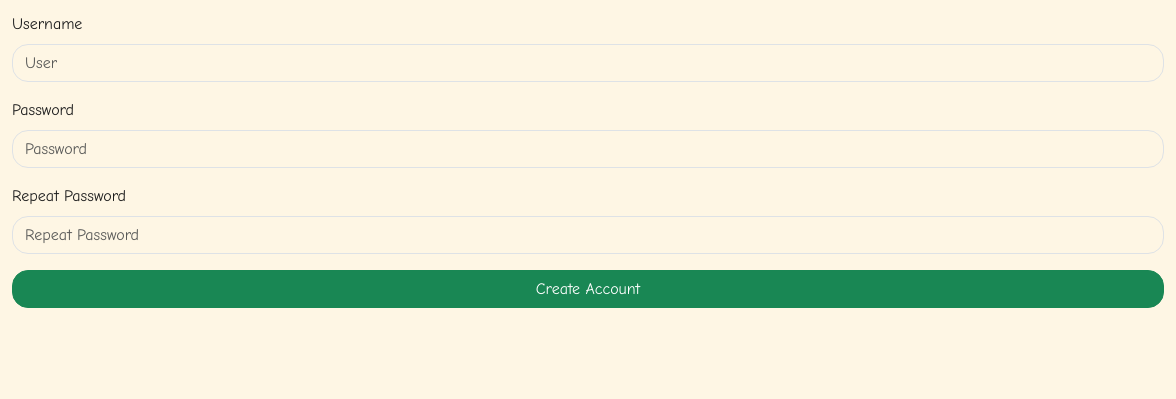
Test case: CreateAccountForm › shows an error message if username already exists
Type "existinguser" into the field labelled "Username" at (588,63), box x1=12 y1=44 x2=1164 y2=82
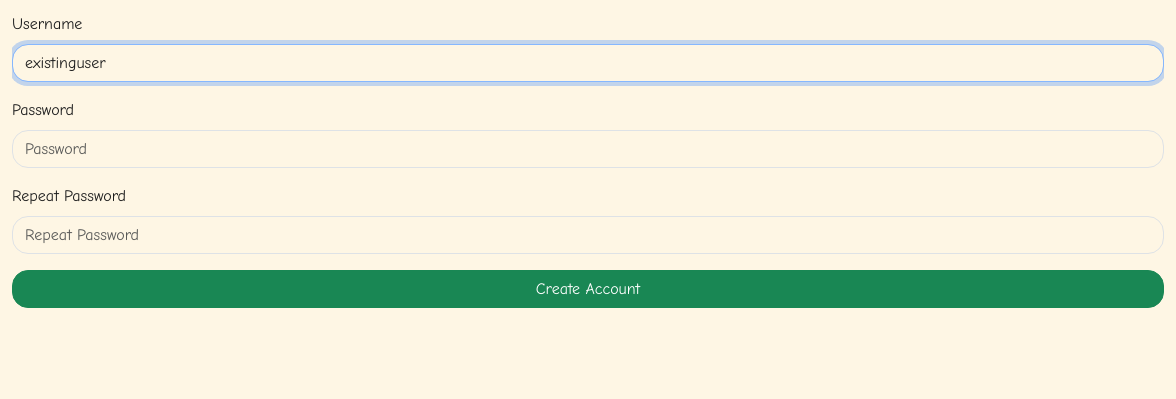
Type "password" into the password field labelled "Password" at (588,149), box x1=12 y1=130 x2=1164 y2=168
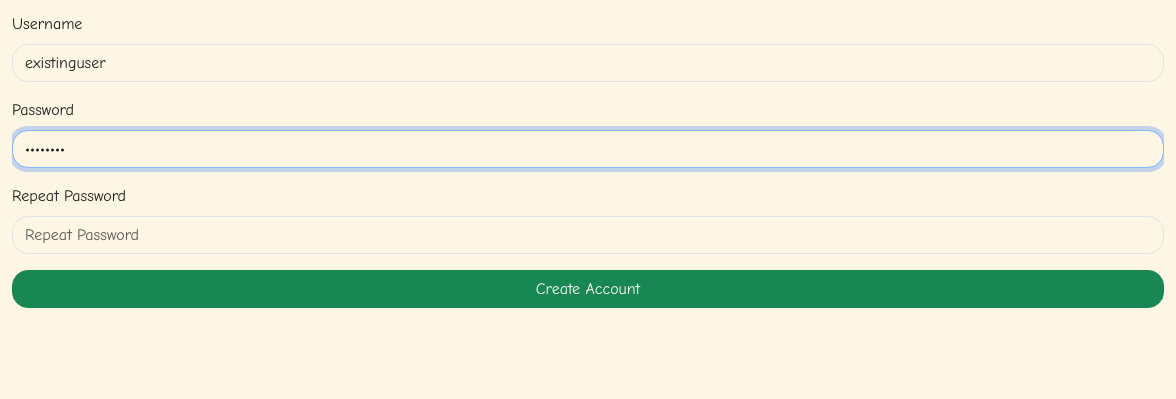
Type "password" into the password field labelled "Repeat Password" at (588,235), box x1=12 y1=216 x2=1164 y2=254
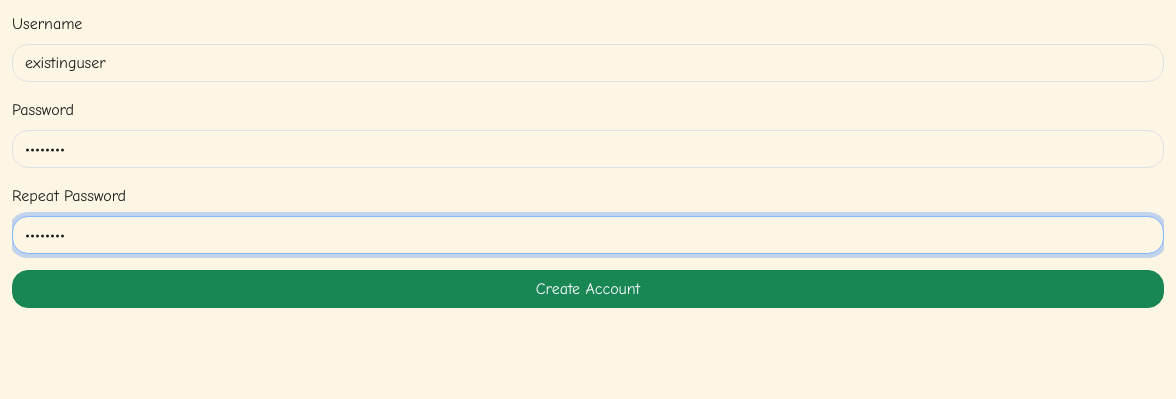
Click the button "Create Account" at (588,289), box x1=12 y1=270 x2=1164 y2=308
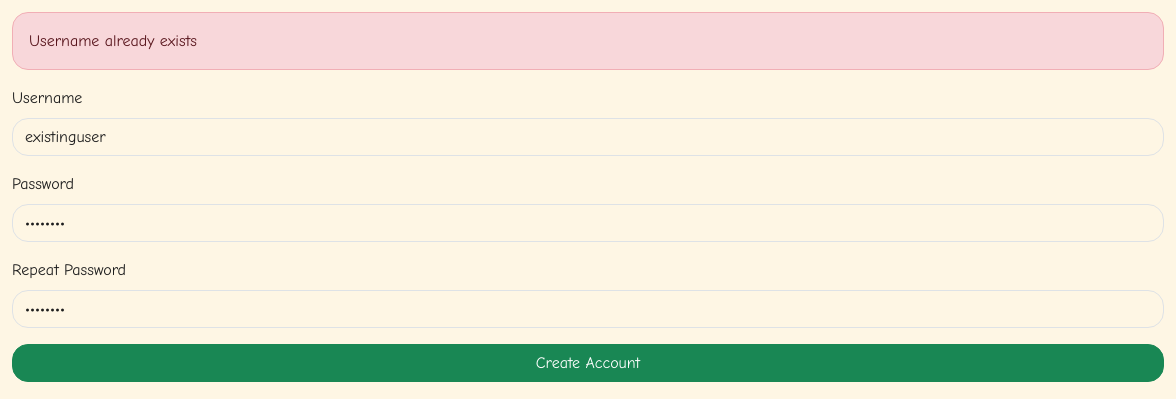
Now the text "Username already exists" is shown, box x1=12 y1=12 x2=1164 y2=70
